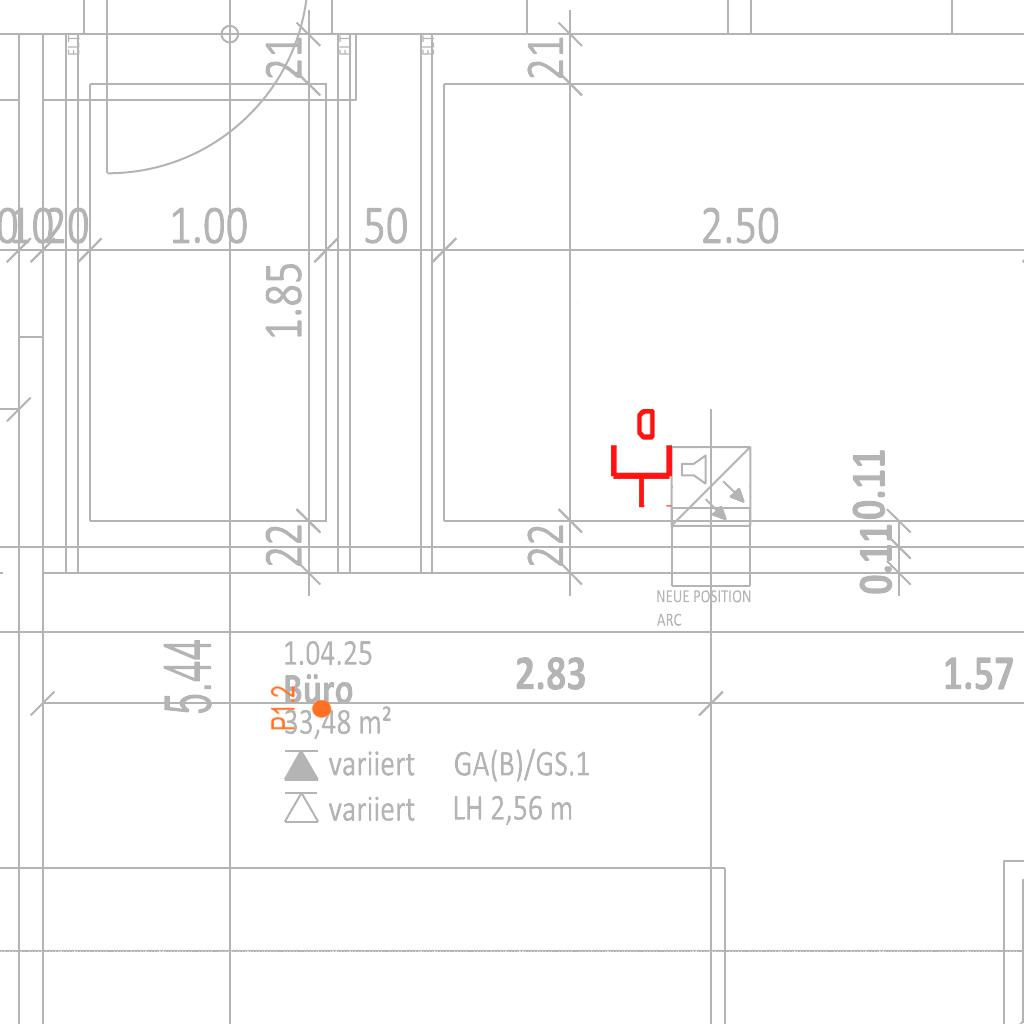Datenanschluss_einfach: (607, 409, 676, 509)
Downlight_LED_Einbauleuchten_Flur: (269, 685, 333, 731)
